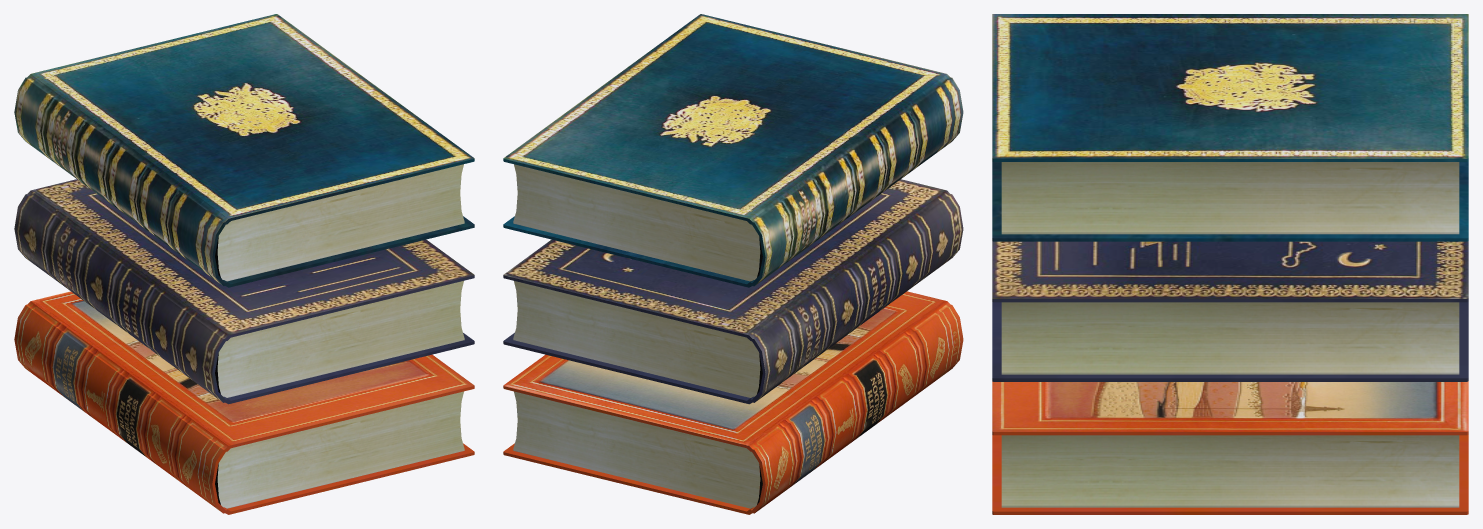
The model's file is book 1.fbx.
3 renders of one model, left to right at view 1: azimuth 30°, elevation 25°; view 2: azimuth 150°, elevation 25°; view 3: azimuth 270°, elevation 25°, orthographic. The views are drawn at different scales.
Parts seen in each view (by area): view 1: default3, default1, default2; view 2: default3, default1, default2; view 3: default3, default1, default2.
Part boxes in pixels (bbox=[...]): default3: bbox=[14, 14, 474, 287]; default1: bbox=[14, 179, 474, 404]; default2: bbox=[14, 291, 474, 514]; default3: bbox=[503, 14, 963, 287]; default1: bbox=[503, 179, 963, 404]; default2: bbox=[503, 291, 963, 514]; default3: bbox=[992, 14, 1468, 241]; default1: bbox=[992, 241, 1468, 381]; default2: bbox=[992, 381, 1468, 514].
Size of the model in its own units: 39.86 by 42.93 by 52.
Materials: 3 (3 with a texture image).
